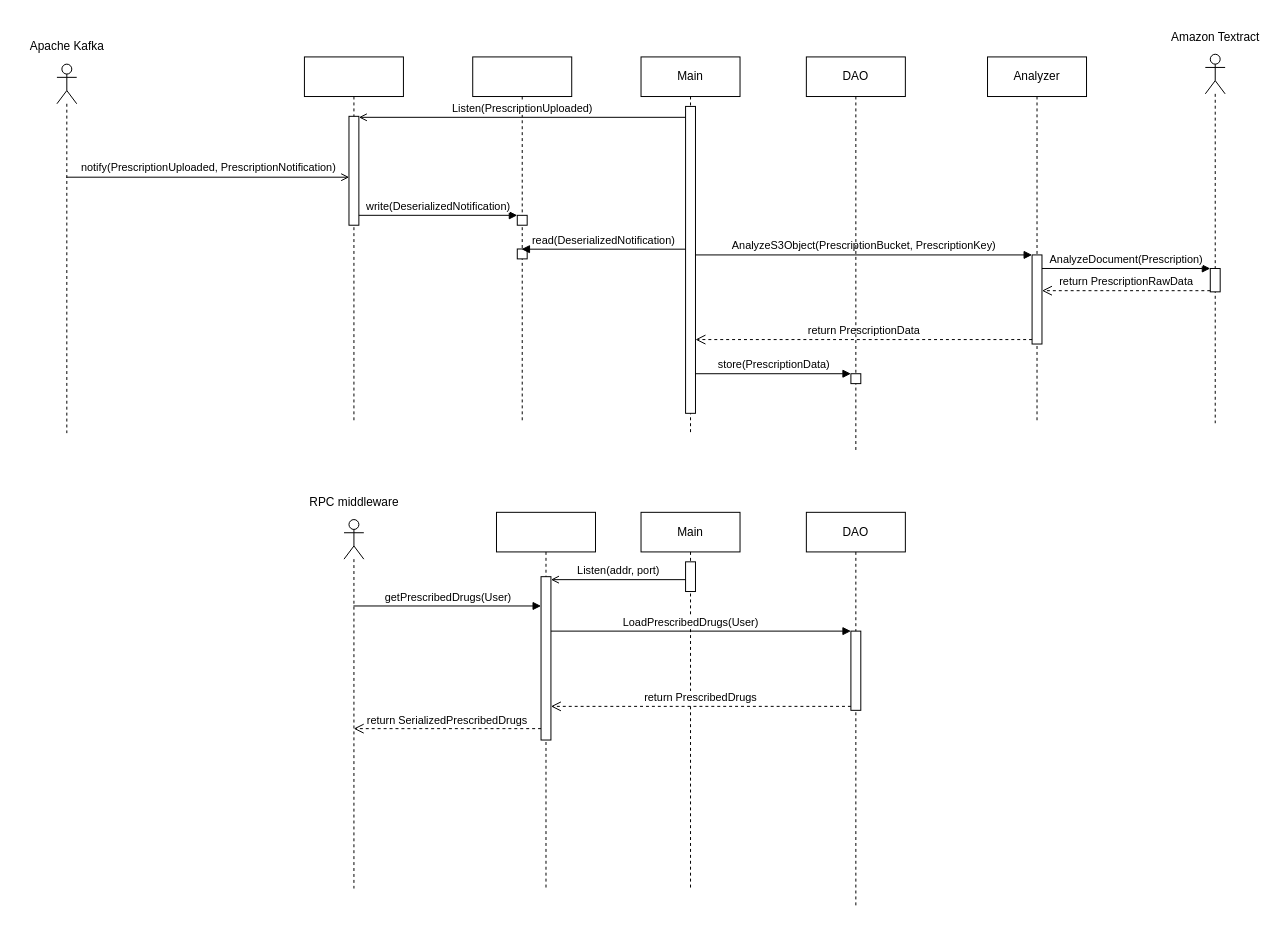
Some shapes in this 1281 by 926 pixel diagram are drawn without their labels. Here are the shapes that lost their labels. From the top down, the box of each, then its label:
(303, 56, 403, 423): Notification Listener
(472, 56, 572, 423): Notification channel
(495, 511, 595, 889): gRPC server
